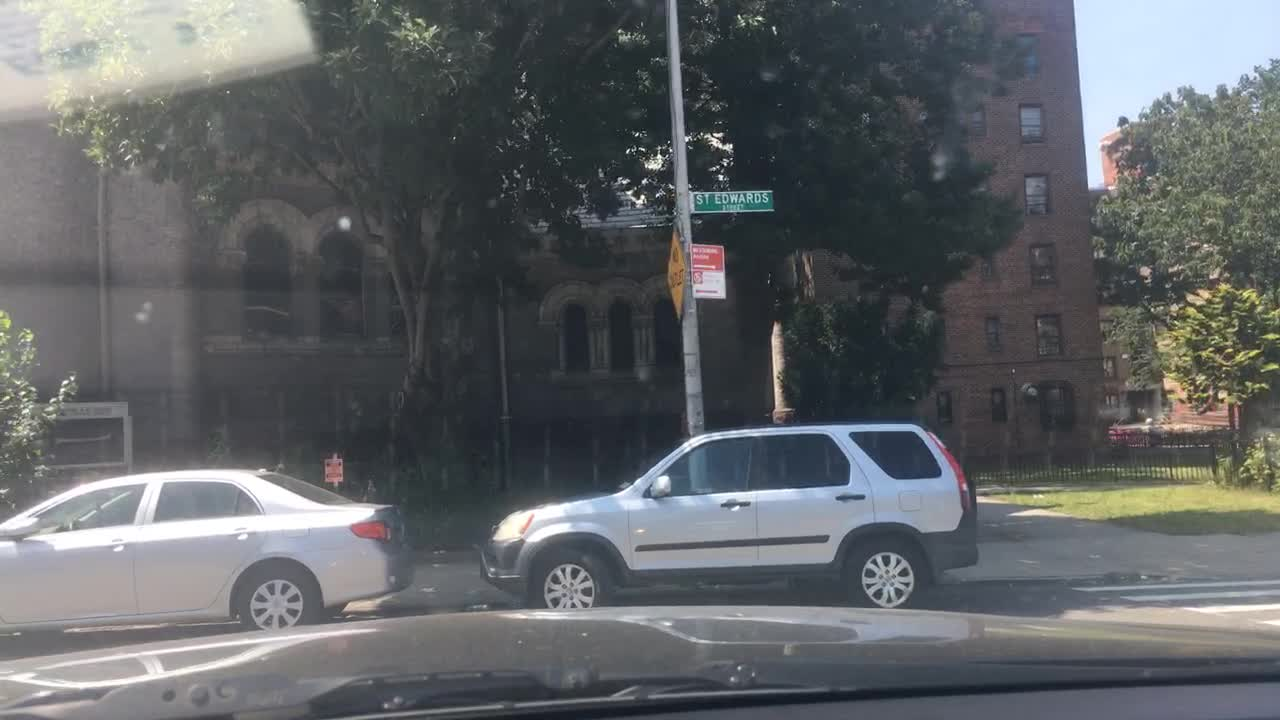car: (476, 423, 980, 609), (0, 467, 410, 658)
traffic sign: (690, 241, 725, 300), (663, 229, 685, 319), (690, 189, 773, 212)
